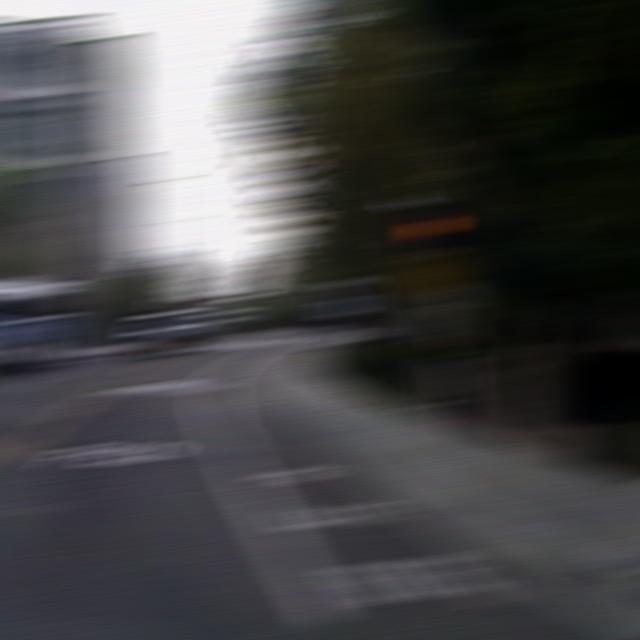pedestrianCrossing: (403, 244, 462, 300)
